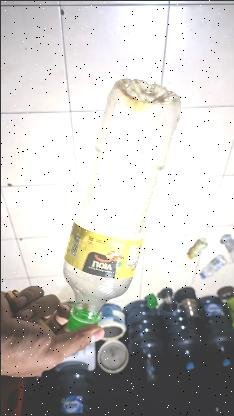Plastic Bottle: (60, 75, 164, 359)
